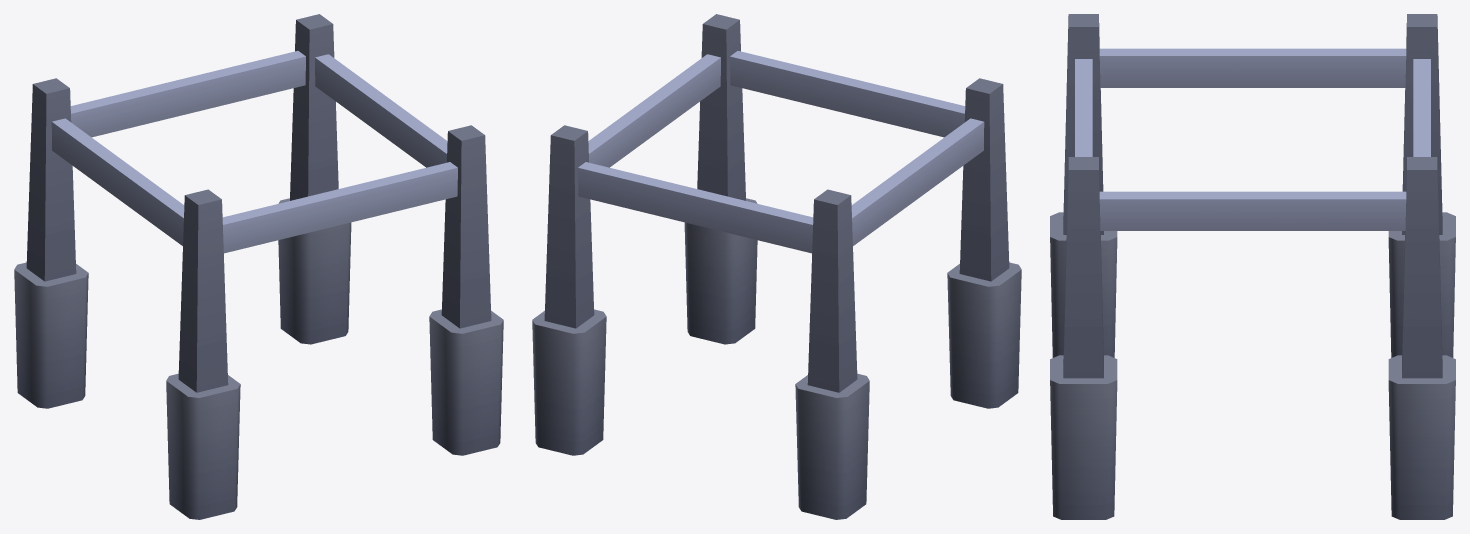
Rendered from structure-metal.glb.
3 views of the same model, side by side, from view 1: azimuth 30°, elevation 25°; view 2: azimuth 150°, elevation 25°; view 3: azimuth 270°, elevation 25° (orthographic). The views are drawn at different scales.
Parts seen in each view (by area): view 1: structure-metal; view 2: structure-metal; view 3: structure-metal.
Part boxes in pixels (x1=…): structure-metal: x1=14, y1=14, x2=503, y2=519; structure-metal: x1=532, y1=14, x2=1021, y2=519; structure-metal: x1=1050, y1=14, x2=1455, y2=519.
Size of the model in its own units: 0.5354 by 0.5 by 0.5354.
1 material, 1 textured.
